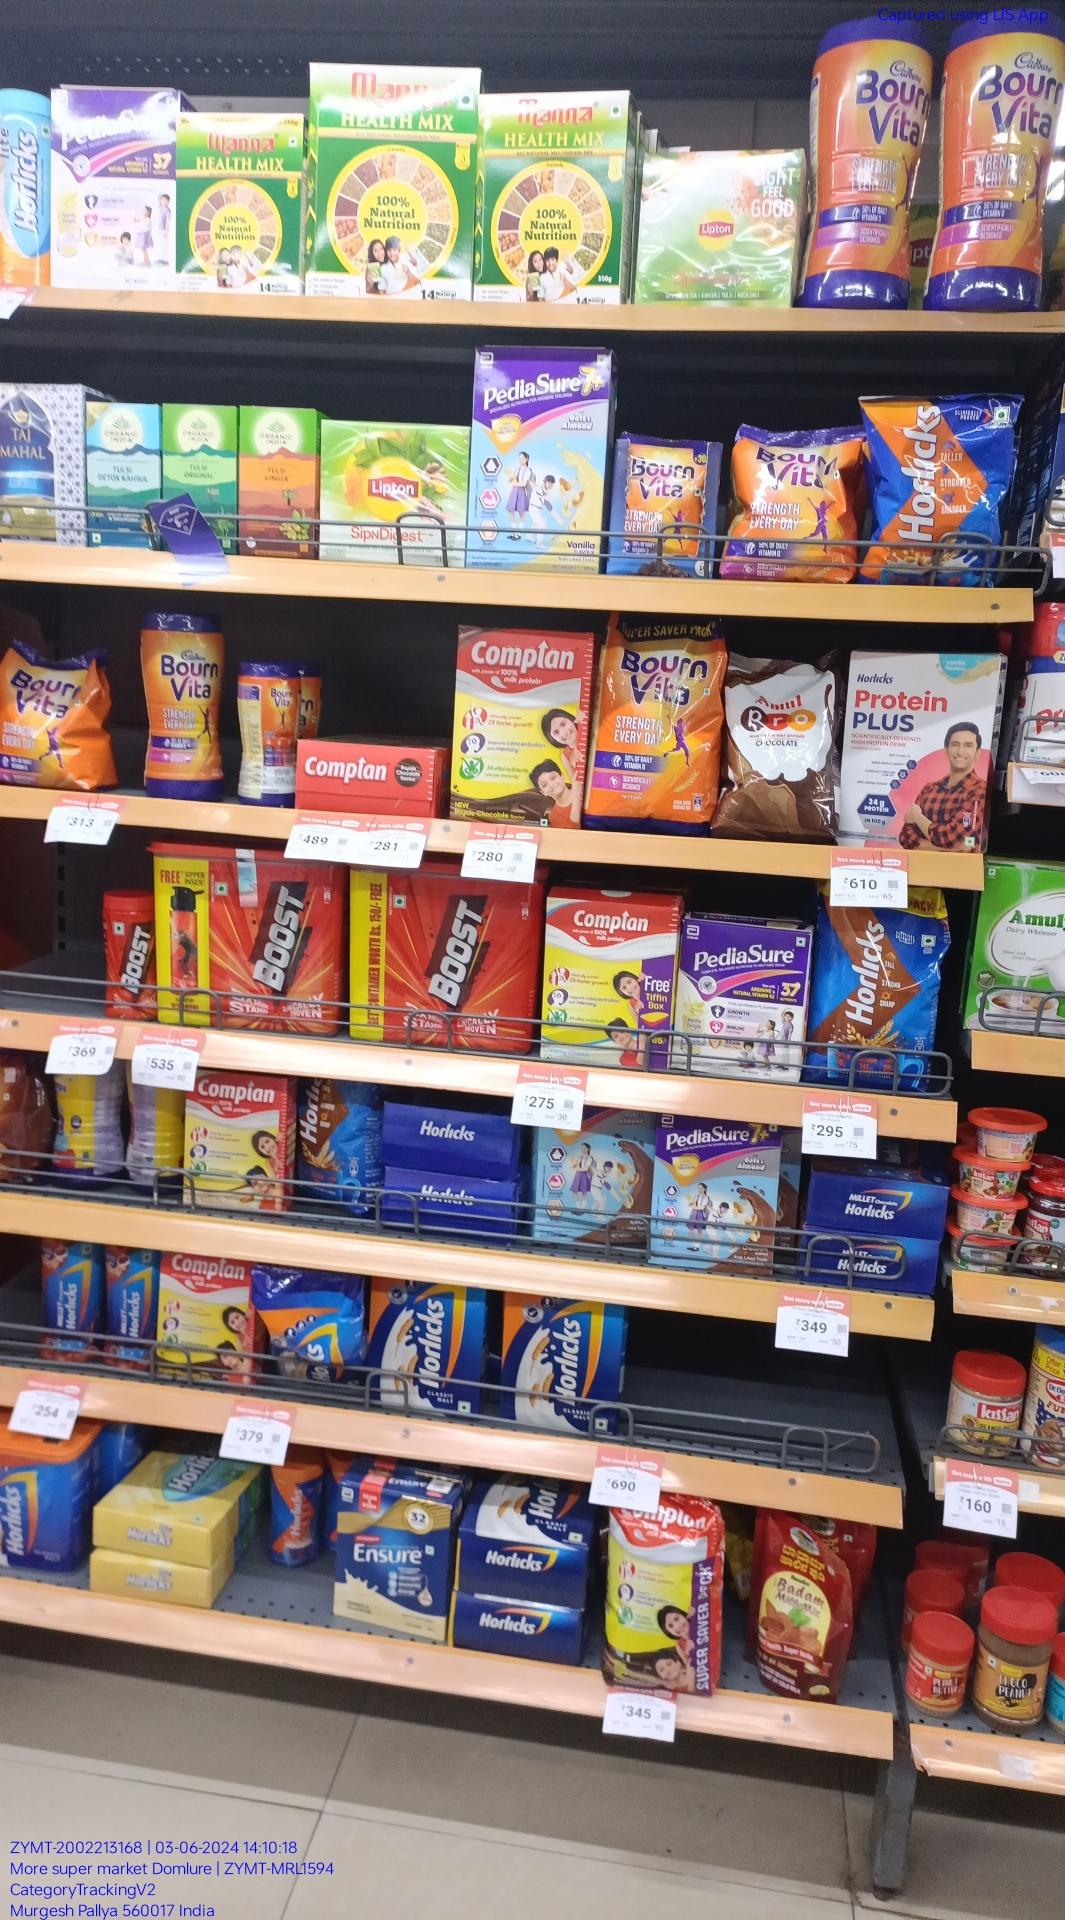BOURN_VITA_1_KG_JAR: (927, 10, 1065, 313), (797, 14, 917, 307)
BOURN_VITA_200_G_JAR: (235, 664, 294, 804)
BOURN_VITA_500_G_JAR: (727, 424, 860, 578), (144, 615, 223, 797)
BOURN_VITA_500_G_POUCH: (0, 647, 115, 800)
BOURN_VITA_750_G_POUCH: (589, 623, 713, 822)
BOURN_VITA_75_G_POUCH: (630, 442, 699, 552)
COMPLAN_CHOCOLATE_200_GMS_PACK: (454, 624, 578, 826), (157, 1256, 248, 1382)
COMPLAN_KESAR_BADAM_200_GMS_PACK: (180, 1075, 282, 1209)
COMPLAN_RC_POUCH_700_GMS_12: (606, 1510, 721, 1688)
ENSURE_VANILLA_400_G_PACK: (334, 1490, 443, 1637)
HORLICK_CHOCOLATE_500_G_JAR: (39, 1235, 96, 1365), (100, 1247, 148, 1372)
HORLICK_CHOCOLATE_750_G_POUCH: (818, 909, 938, 1086)
HORLICK_CLASSIC_MALT_500_G_PACK: (502, 1302, 627, 1437), (367, 1289, 480, 1422)
HORLICK_CLASSIC_MALT_750_G_POUCH: (864, 391, 1014, 590)
PEDIASURE_7_PLUS_CHOCOLATE_400_G_PACK: (654, 1115, 780, 1273), (534, 1130, 648, 1249)
PEDIASURE_VANILLA_500_G_PACK: (682, 926, 803, 1079)
